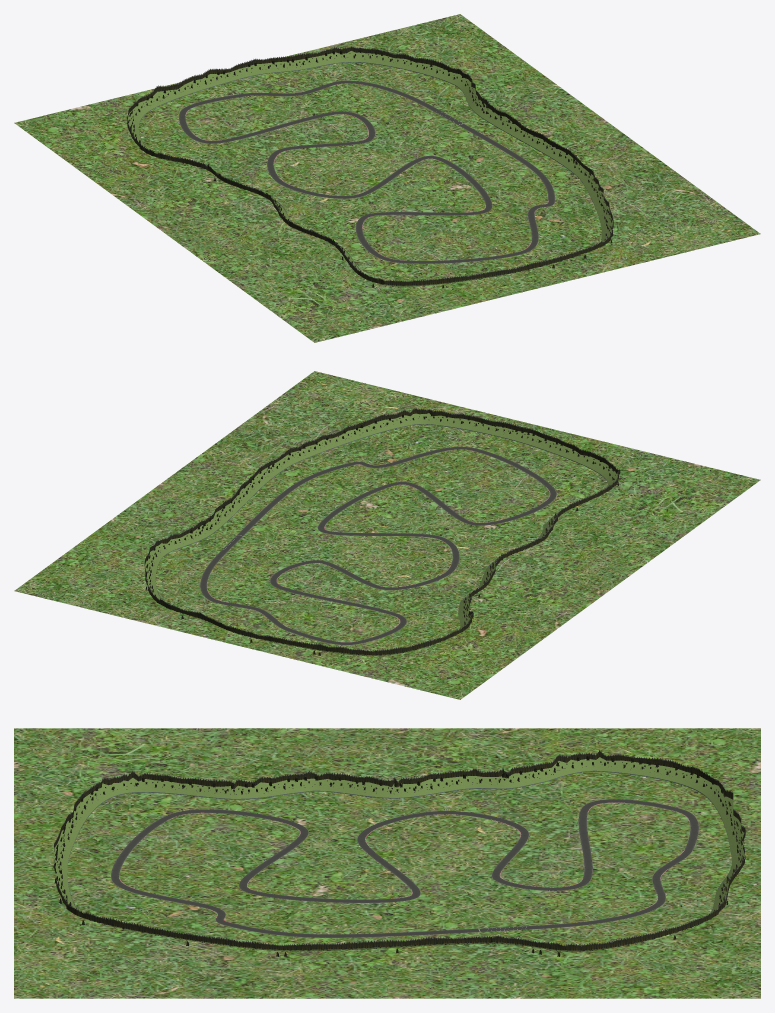
3 views of the same model, one above another, from view 1: azimuth 30°, elevation 25°; view 2: azimuth 150°, elevation 25°; view 3: azimuth 270°, elevation 25° (orthographic). The views are drawn at different scales.
Parts seen in each view (by area): view 1: Plane, RaceTrack_Wall_00, RaceTrack_Main_00, RaceTrack_Trees_00; view 2: Plane, RaceTrack_Wall_00, RaceTrack_Main_00, RaceTrack_Trees_00; view 3: Plane, RaceTrack_Wall_00, RaceTrack_Main_00, RaceTrack_Trees_00, RaceTrack_Curbs_00.
Boxes of the visible parts, left/top/right/bottom form: Plane: left=14, top=14, right=760, bottom=342; RaceTrack_Wall_00: left=127, top=46, right=613, bottom=286; RaceTrack_Main_00: left=179, top=80, right=554, bottom=263; RaceTrack_Trees_00: left=128, top=50, right=612, bottom=288; Plane: left=14, top=371, right=760, bottom=699; RaceTrack_Wall_00: left=144, top=408, right=620, bottom=655; RaceTrack_Main_00: left=200, top=446, right=556, bottom=645; RaceTrack_Trees_00: left=145, top=413, right=618, bottom=655; Plane: left=14, top=728, right=760, bottom=998; RaceTrack_Wall_00: left=54, top=749, right=745, bottom=951; RaceTrack_Main_00: left=111, top=799, right=698, bottom=937; RaceTrack_Trees_00: left=53, top=756, right=745, bottom=956; RaceTrack_Curbs_00: left=119, top=802, right=689, bottom=922.
Size of the model in its own units: 1200 by 36.99 by 1400.
